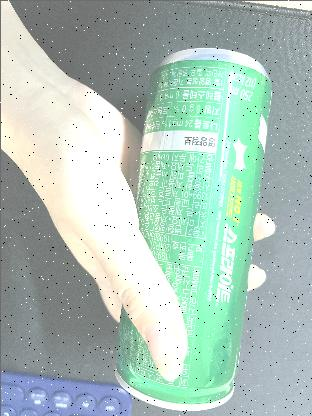Can: (112, 45, 272, 411)
